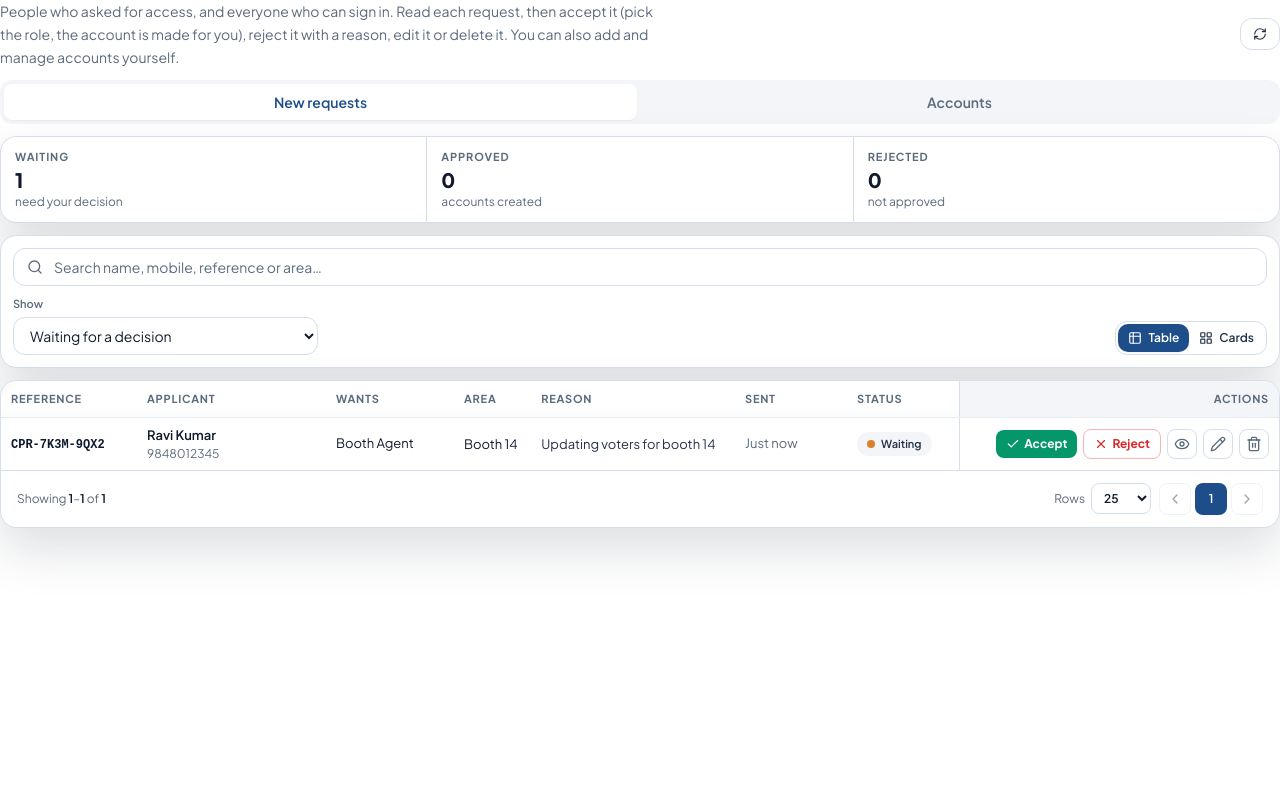
Super Admin: manage accounts and requests › your own account can be edited but not made a lesser role
This screenshot has width=1280, height=800.
Click the tab "Accounts". click: (960, 102)
box: left=643, top=84, right=1276, bottom=120
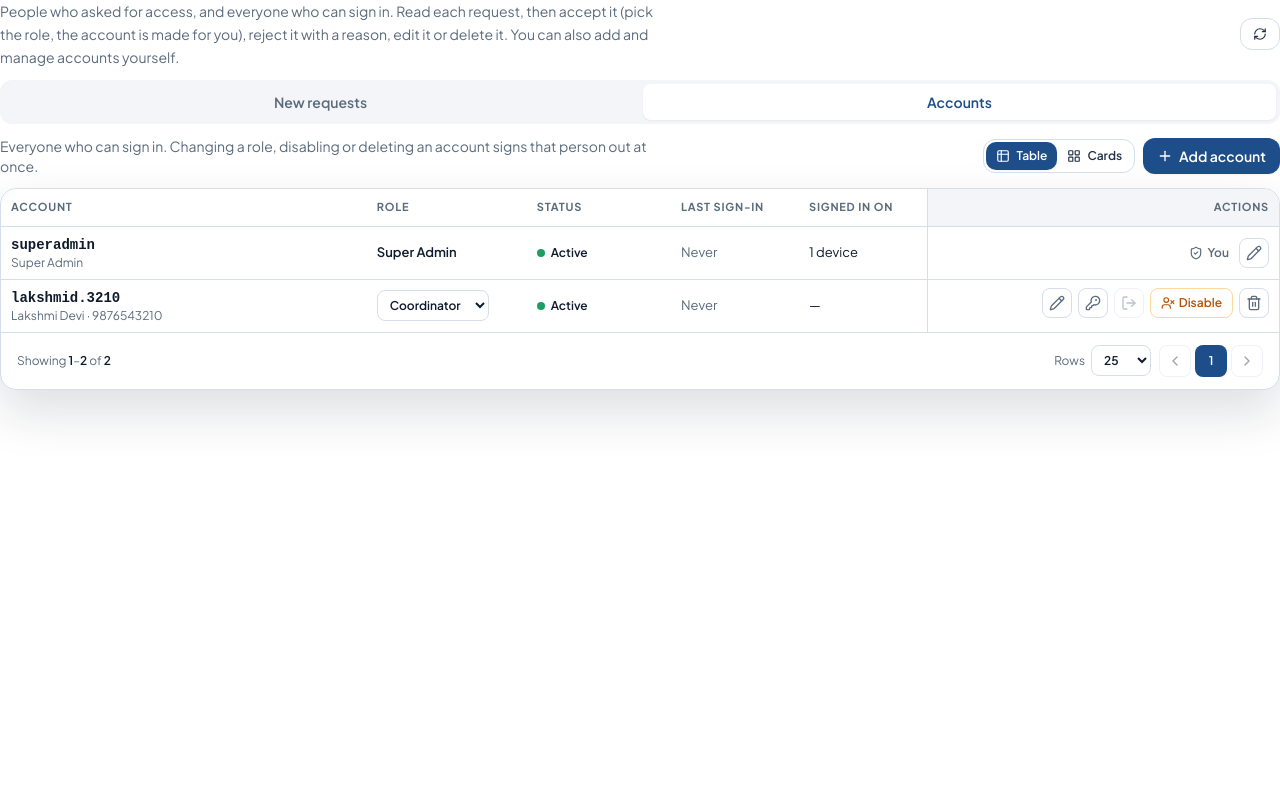
Click the button named "Edit superadmin". click: (1254, 253)
box: left=1239, top=238, right=1269, bottom=268
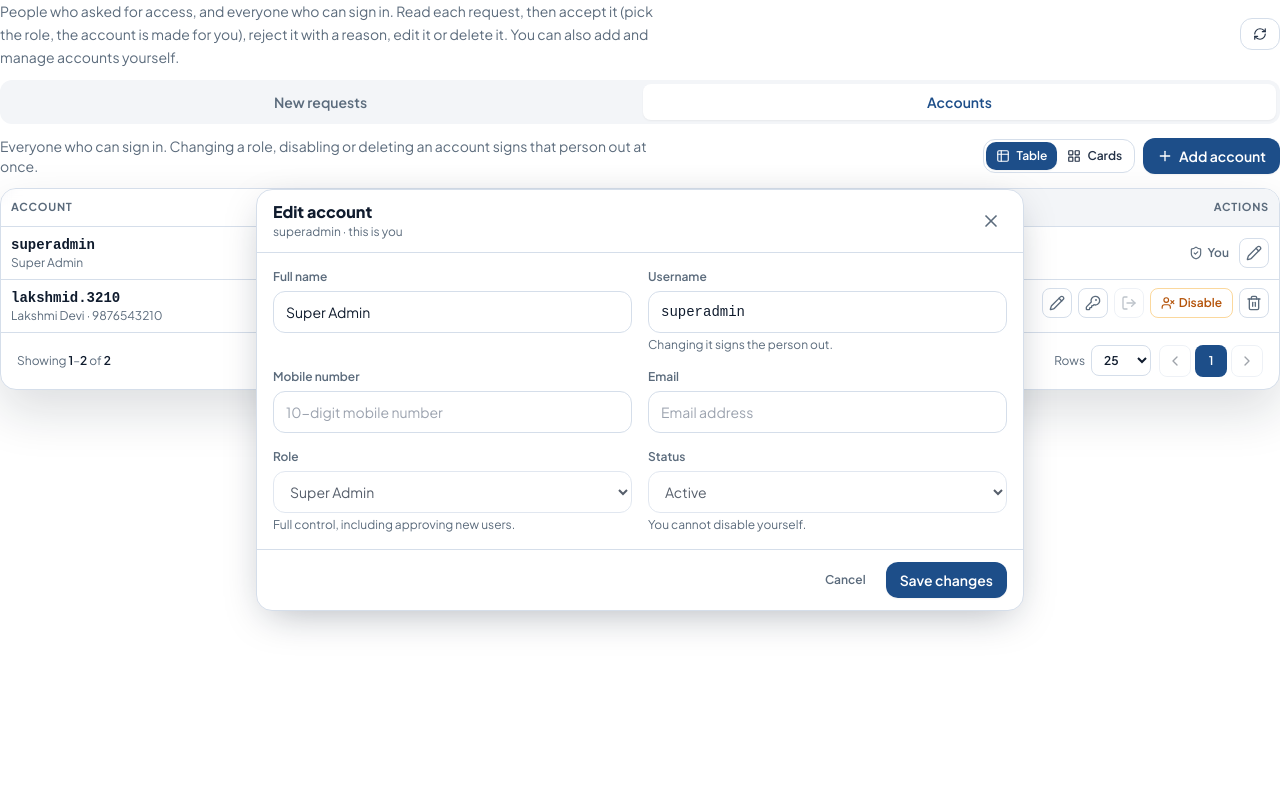
Expected: the text "this is you" is shown, left=273, top=224, right=403, bottom=239
Expected: the dropdown with id "a_role" is disabled, left=273, top=471, right=632, bottom=513
Expected: the dropdown with id "a_status" is disabled, left=648, top=471, right=1007, bottom=513
